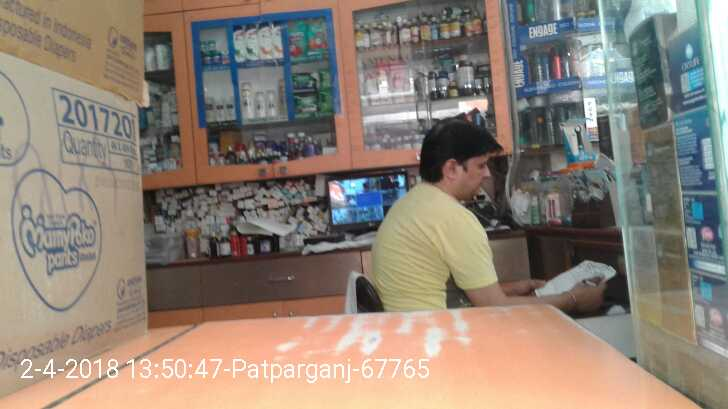vicks: (212, 52, 222, 64), (208, 39, 217, 51), (204, 53, 212, 64)
